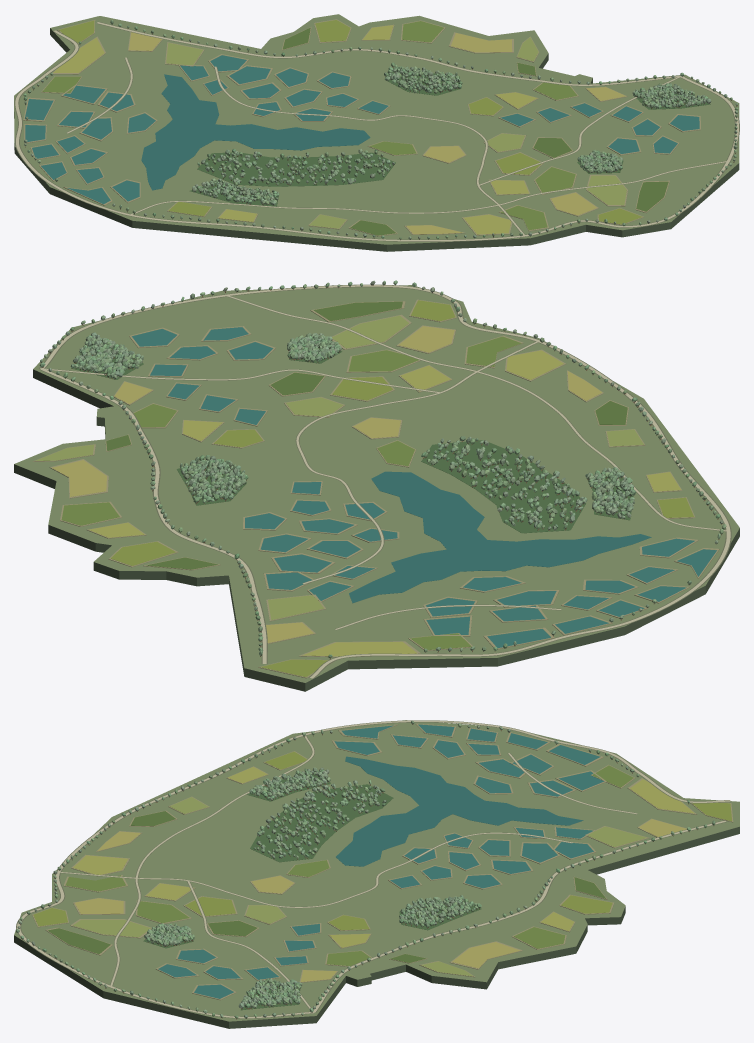
Rendered from tongtiehai-farm-v01.glb.
3 renders of one model, top to bottom at view 1: azimuth 30°, elevation 25°; view 2: azimuth 150°, elevation 25°; view 3: azimuth 270°, elevation 25°, orthographic. The views are drawn at different scales.
Visible parts, largest first — view 1: Project_extent_schematic, Illustrative_tree_canopies, road, L-001, vegetation, field, F-023, F-010, F-002, F-026, F-021, F-009 (+25 smaller); view 2: Project_extent_schematic, Illustrative_tree_canopies, L-001, road, field, vegetation, F-023, F-010, F-002, F-021, F-026, F-024 (+17 smaller); view 3: Project_extent_schematic, Illustrative_tree_canopies, L-001, road, field, vegetation, F-023, F-010, F-002, F-026, F-021, F-009 (+11 smaller).
Part boxes in pixels (x1=…): Project_extent_schematic: x1=14, y1=14, x2=739, y2=251; Illustrative_tree_canopies: x1=23, y1=20, x2=738, y2=239; road: x1=14, y1=21, x2=739, y2=241; L-001: x1=141, y1=74, x2=370, y2=190; vegetation: x1=190, y1=68, x2=710, y2=206; field: x1=41, y1=19, x2=669, y2=236; F-023: x1=587, y1=175, x2=626, y2=205; F-010: x1=451, y1=33, x2=512, y2=52; F-002: x1=53, y1=38, x2=104, y2=72; F-026: x1=464, y1=214, x2=511, y2=234; F-021: x1=535, y1=167, x2=575, y2=192; F-009: x1=402, y1=21, x2=443, y2=42; Project_extent_schematic: x1=14, y1=285, x2=739, y2=691; Illustrative_tree_canopies: x1=39, y1=280, x2=726, y2=657; L-001: x1=349, y1=471, x2=651, y2=603; road: x1=39, y1=284, x2=731, y2=678; field: x1=32, y1=299, x2=695, y2=678; vegetation: x1=71, y1=345, x2=633, y2=533; F-023: x1=332, y1=315, x2=408, y2=348; F-010: x1=52, y1=460, x2=106, y2=496; F-002: x1=302, y1=641, x2=417, y2=656; F-021: x1=348, y1=350, x2=418, y2=371; F-026: x1=506, y1=350, x2=563, y2=379; F-024: x1=313, y1=301, x2=402, y2=320; Project_extent_schematic: x1=14, y1=720, x2=739, y2=1028; Illustrative_tree_canopies: x1=16, y1=720, x2=715, y2=1018; L-001: x1=336, y1=756, x2=583, y2=866; road: x1=16, y1=720, x2=730, y2=1018; field: x1=32, y1=751, x2=733, y2=982; vegetation: x1=143, y1=770, x2=481, y2=1010; F-023: x1=73, y1=919, x2=150, y2=937; F-010: x1=452, y1=942, x2=520, y2=968; F-002: x1=630, y1=779, x2=694, y2=813; F-026: x1=73, y1=855, x2=127, y2=874; F-021: x1=137, y1=901, x2=189, y2=922; F-009: x1=514, y1=927, x2=565, y2=948.
Size of the model in its own units: 2228 by 48.95 by 2266.
